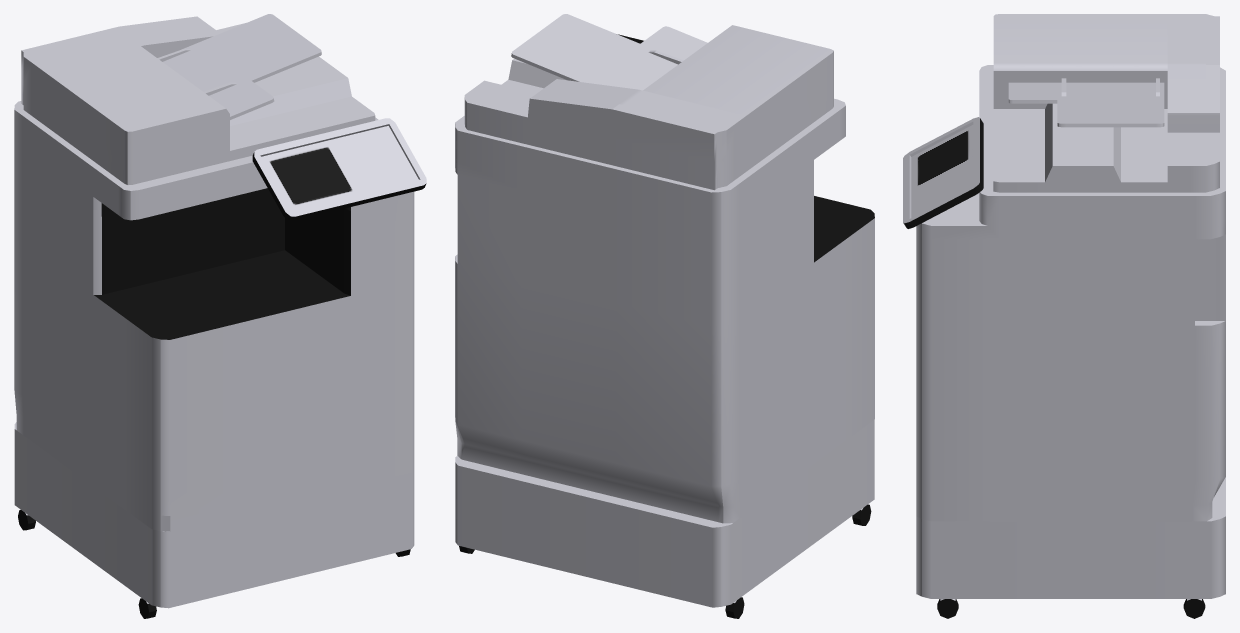
Rendered from printer.fbx.
The picture shows the model from 3 angles, left to right: view 1: azimuth 30°, elevation 25°; view 2: azimuth 150°, elevation 25°; view 3: azimuth 270°, elevation 25°; orthographic projection. The views are drawn at different scales.
Parts seen in each view (by area): view 1: printer; view 2: printer; view 3: printer.
Part boxes in pixels (left/top/right/bottom): printer: left=14, top=14, right=426, bottom=618; printer: left=455, top=14, right=874, bottom=618; printer: left=903, top=14, right=1225, bottom=618.
Size of the model in its own units: 0.00418 by 0.00712 by 0.00434.
Materials: 1 (1 with a texture image).
